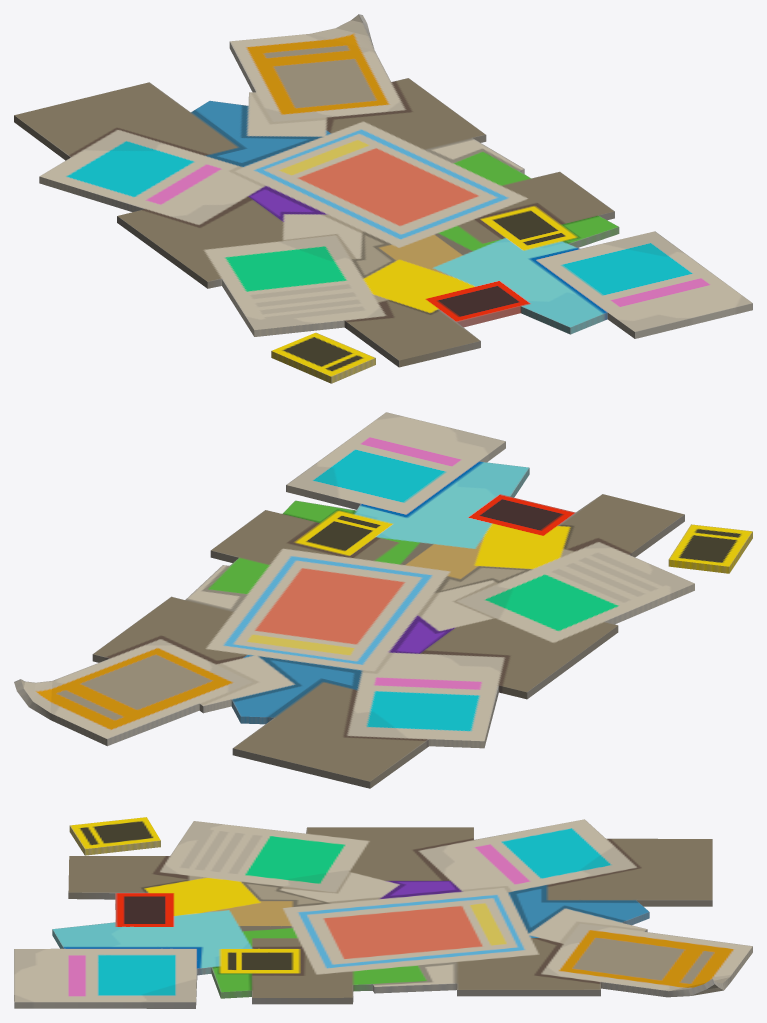
The model's file is SM_Prop_Posters_01.fbx.
The picture shows the model from 3 angles, top to bottom: view 1: azimuth 30°, elevation 25°; view 2: azimuth 150°, elevation 25°; view 3: azimuth 270°, elevation 25°; orthographic projection. The views are drawn at different scales.
Visible parts, largest first — view 1: SM_Prop_Posters_01; view 2: SM_Prop_Posters_01; view 3: SM_Prop_Posters_01.
Part boxes in pixels (box(x1,y1,x2,y2)): SM_Prop_Posters_01: box(14, 14, 752, 383); SM_Prop_Posters_01: box(14, 412, 752, 788); SM_Prop_Posters_01: box(14, 817, 752, 1008).
Bounding box in the file's own units: 10261 × 574 × 17286.
